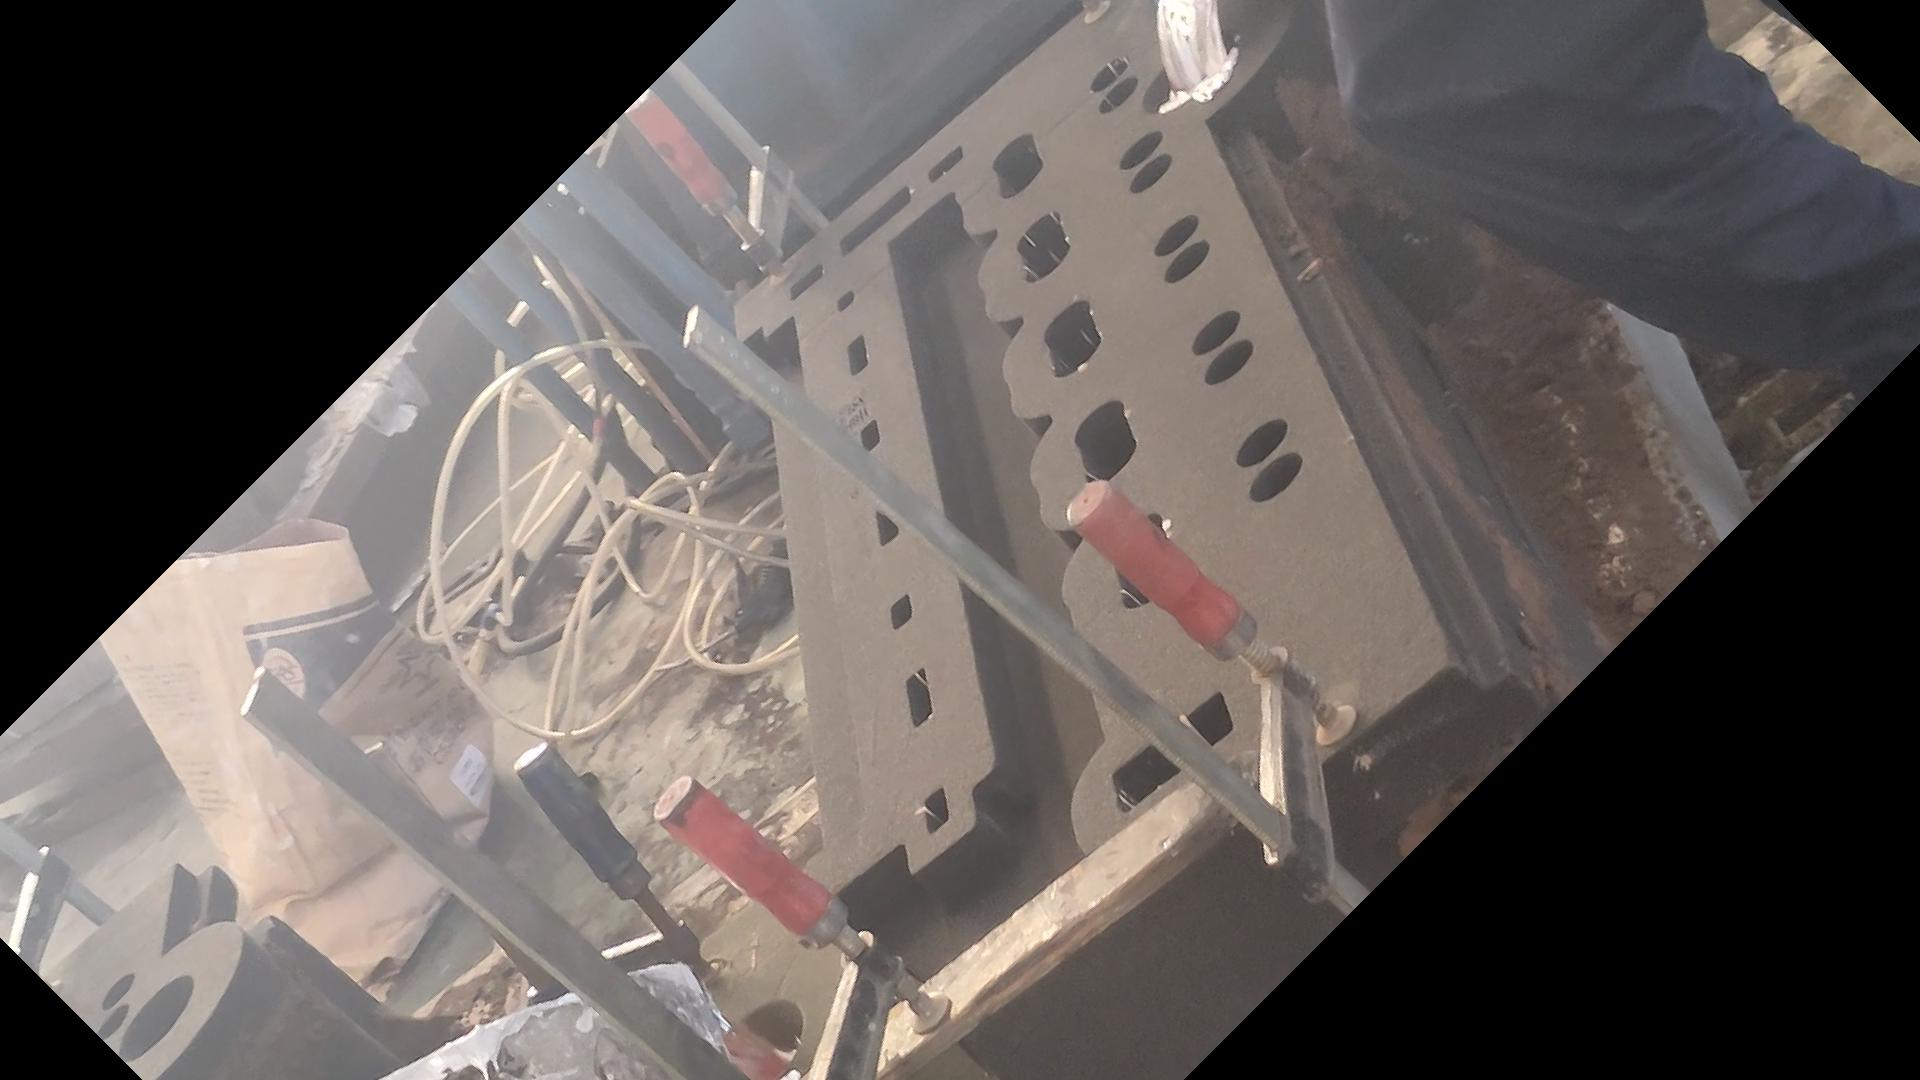pouring hole: (1141, 28, 1240, 112), (709, 1000, 804, 1080), (116, 975, 195, 1062)
